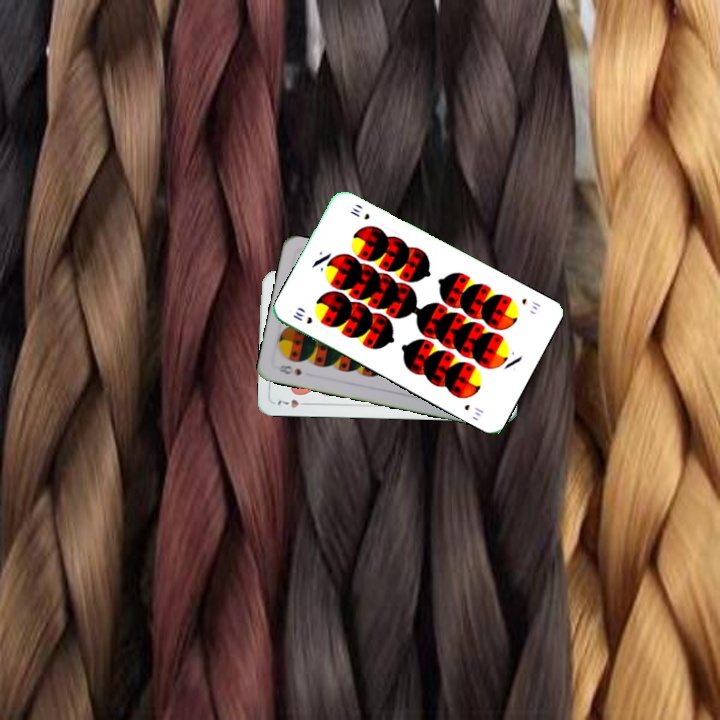H7: (274, 395, 312, 411)
S10: (289, 307, 315, 327), (517, 294, 543, 313)
S8: (275, 361, 304, 378)
